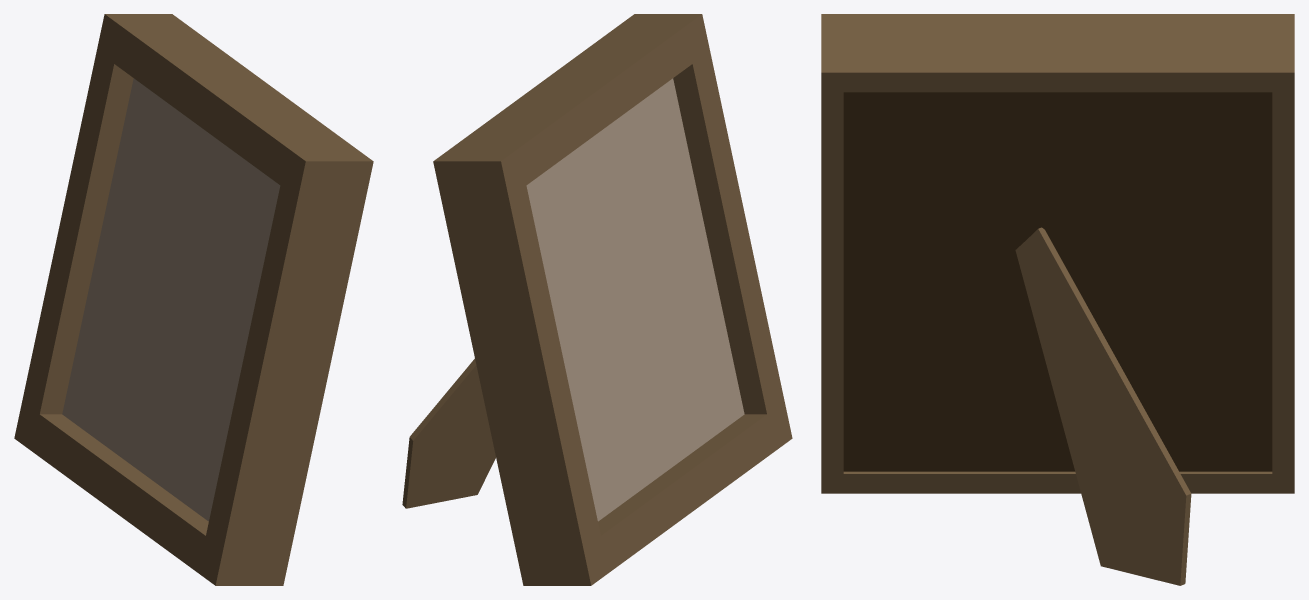
Rendered from Cuadro Low.fbx.
3 renders of one model, left to right at view 1: azimuth 30°, elevation 25°; view 2: azimuth 150°, elevation 25°; view 3: azimuth 270°, elevation 25°, orthographic. The views are drawn at different scales.
Parts seen in each view (by area): view 1: pasted__pCube4; view 2: pasted__pCube4; view 3: pasted__pCube4.
Boxes of the visible parts, x1=… form: pasted__pCube4: x1=14, y1=14, x2=373, y2=585; pasted__pCube4: x1=402, y1=14, x2=792, y2=585; pasted__pCube4: x1=821, y1=14, x2=1294, y2=585.
Bounding box in the file's own units: 1.02 × 1.72 × 1.5.
